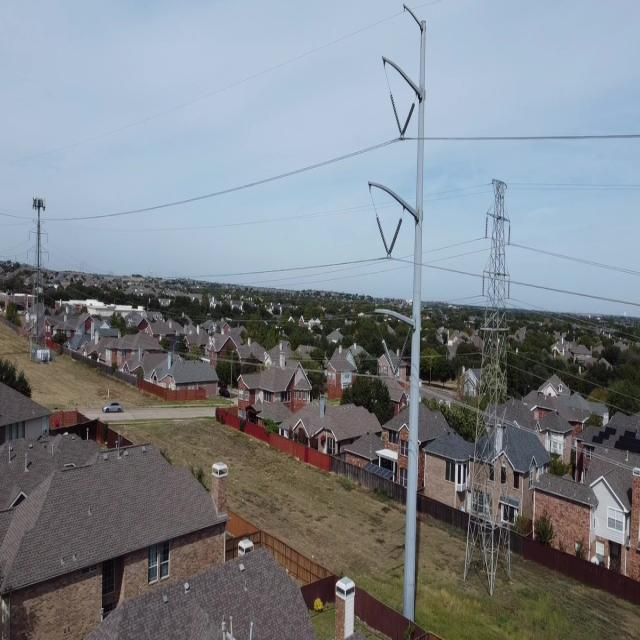杆塔: (460, 172, 522, 608), (20, 189, 54, 362)
正常绝缘子: (381, 211, 407, 275), (386, 329, 412, 390), (383, 79, 407, 144), (374, 323, 399, 384), (394, 93, 420, 150), (371, 203, 394, 264), (480, 269, 487, 299), (483, 211, 489, 240), (507, 272, 512, 299), (507, 220, 512, 247)
